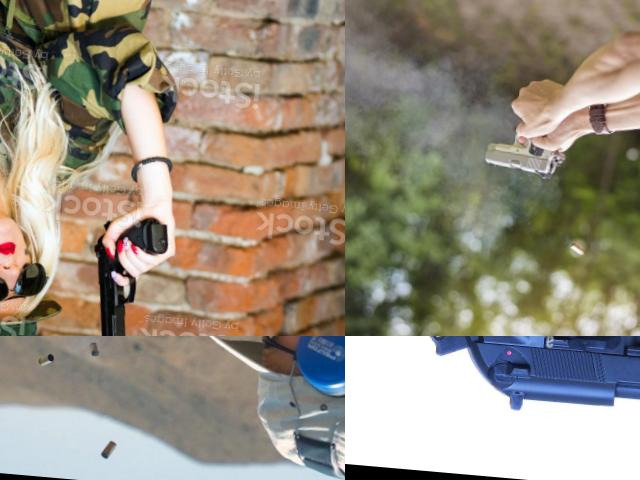handgun: (415, 336, 640, 480), (80, 208, 174, 336), (480, 110, 569, 183), (66, 336, 182, 376)
